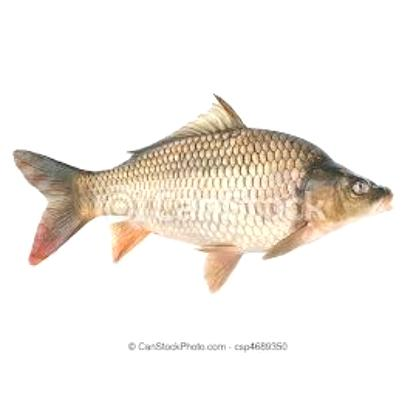ikan-mas: (11, 93, 392, 295)
